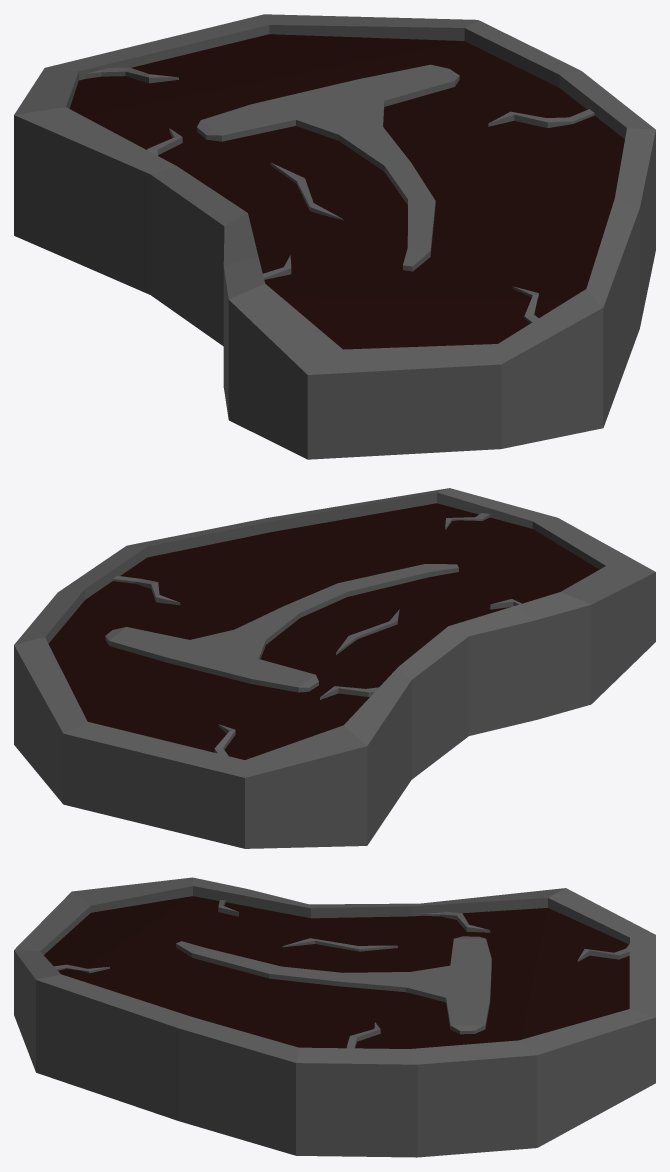
Rendered from Steak.obj.
3 renders of one model, top to bottom at view 1: azimuth 30°, elevation 25°; view 2: azimuth 150°, elevation 25°; view 3: azimuth 270°, elevation 25°, orthographic. The views are drawn at different scales.
Parts seen in each view (by area): view 1: Steak_Cube.012; view 2: Steak_Cube.012; view 3: Steak_Cube.012.
Part boxes in pixels (box(x1,y1,x2,y2)): Steak_Cube.012: box(14, 14, 655, 459); Steak_Cube.012: box(14, 488, 655, 848); Steak_Cube.012: box(14, 877, 655, 1157).
Size of the model in its own units: 1.32 by 0.3397 by 1.91.
